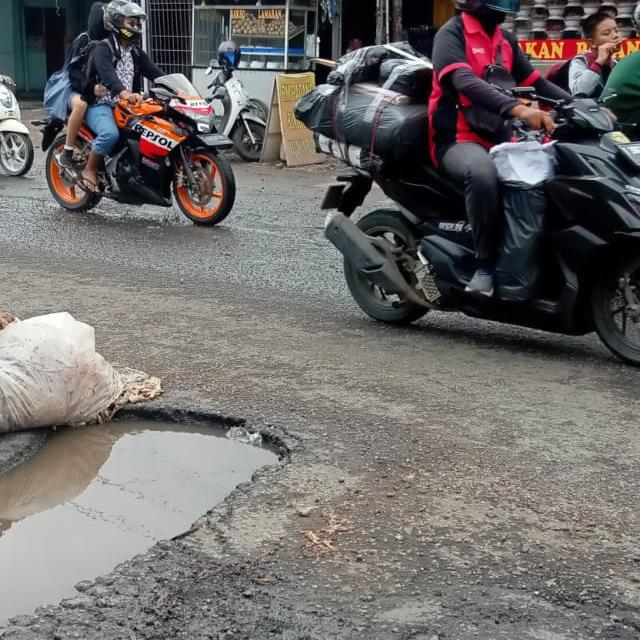lubang_kecil: (0, 394, 288, 640)
